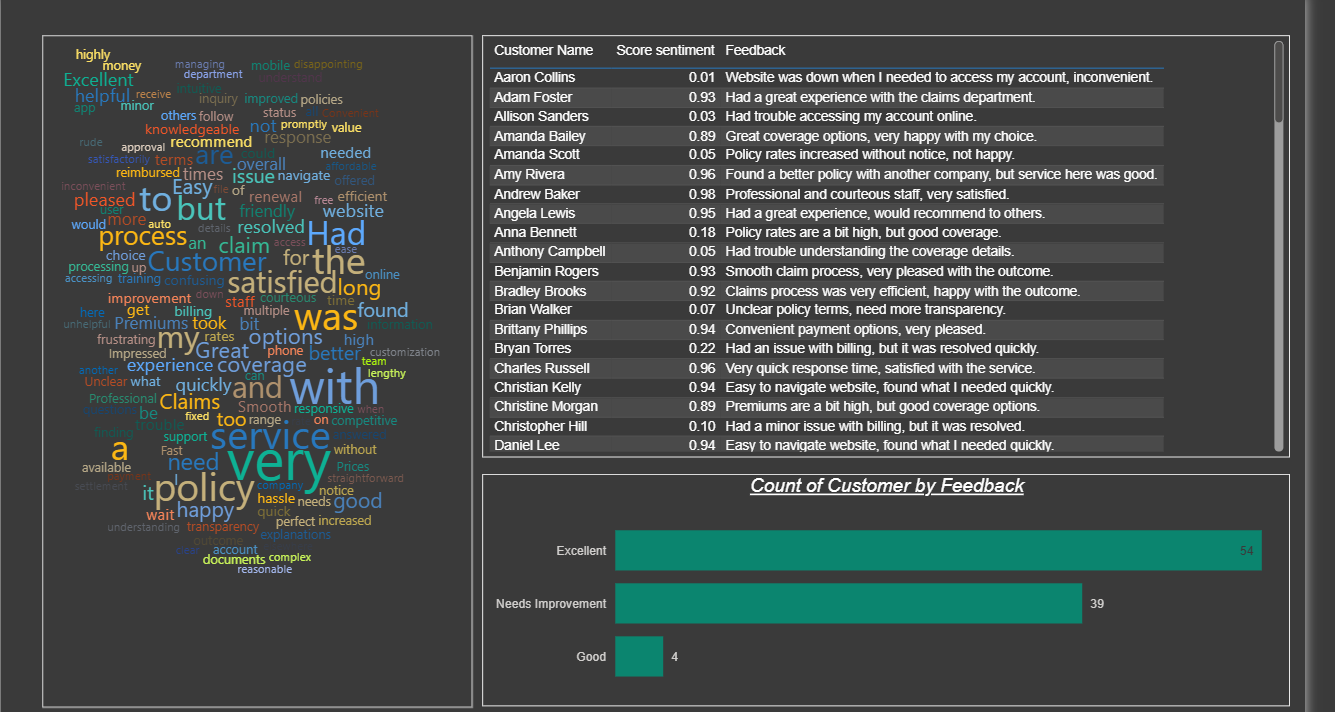

This screenshot's page, from the dashboard's own definition file:
{"tool":"powerbi","page":{"name":"Sentiment Analysis","canvas":[1280,720],"ordinal":2},"visuals":[{"type":"WordCloud1447959067750","fields":{"Category":["Sheet1.Feedback"],"Values":["Sheet1.Feedback"]},"box":[40.5,40.5,422.1,660.1],"z":0},{"type":"barChart","title":"Count of Customer by Feedback","fields":{"Category":["Sheet1.Good/Improvement"],"Y":["Sheet1.Customer Name"]},"box":[472.4,471.2,792.6,228.2],"z":1000},{"type":"tableEx","fields":{"Values":["Sheet1.Customer Name","Sheet1.Score sentiment","Sheet1.Feedback"]},"box":[472.4,40.5,792.6,414.7],"z":2000}]}

Visuals, with their boxes on the page's 1280x720 design canvas (x1, y1, x2, y2). These are canvas units, not pixel positions in the 1335x712 screenshot, which may show the page scaled, cropped or inside an application window:
WordCloud1447959067750 - Sheet1.Feedback x Sheet1.Feedback: left=40, top=40, right=463, bottom=701
"Count of Customer by Feedback" barChart: left=472, top=471, right=1265, bottom=699
tableEx - Sheet1.Customer Name x Sheet1.Score sentiment: left=472, top=40, right=1265, bottom=455
